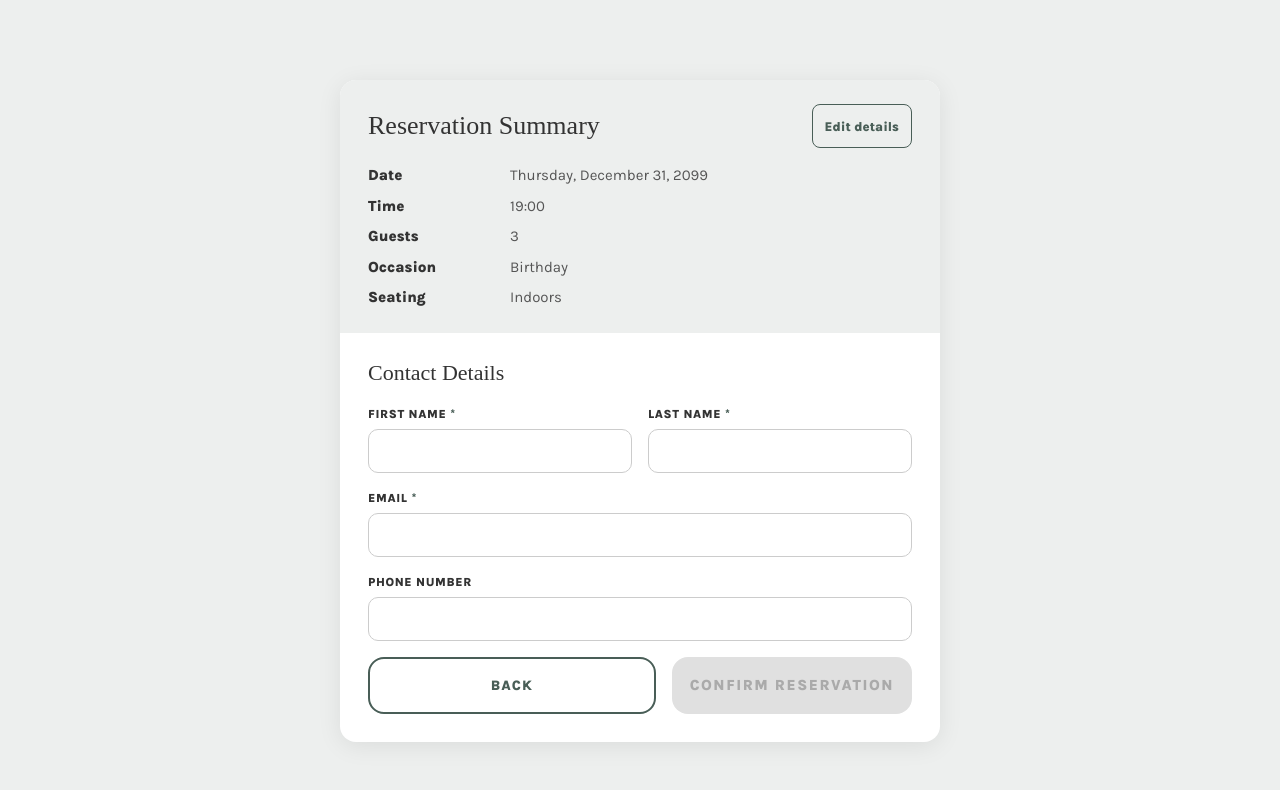
Test: BookingSummary › Confirm button enables after filling required contact fields
Type "Anna" into the field labelled "First Name *".
click(500, 451); type("Anna")  # box [368,429,632,473]
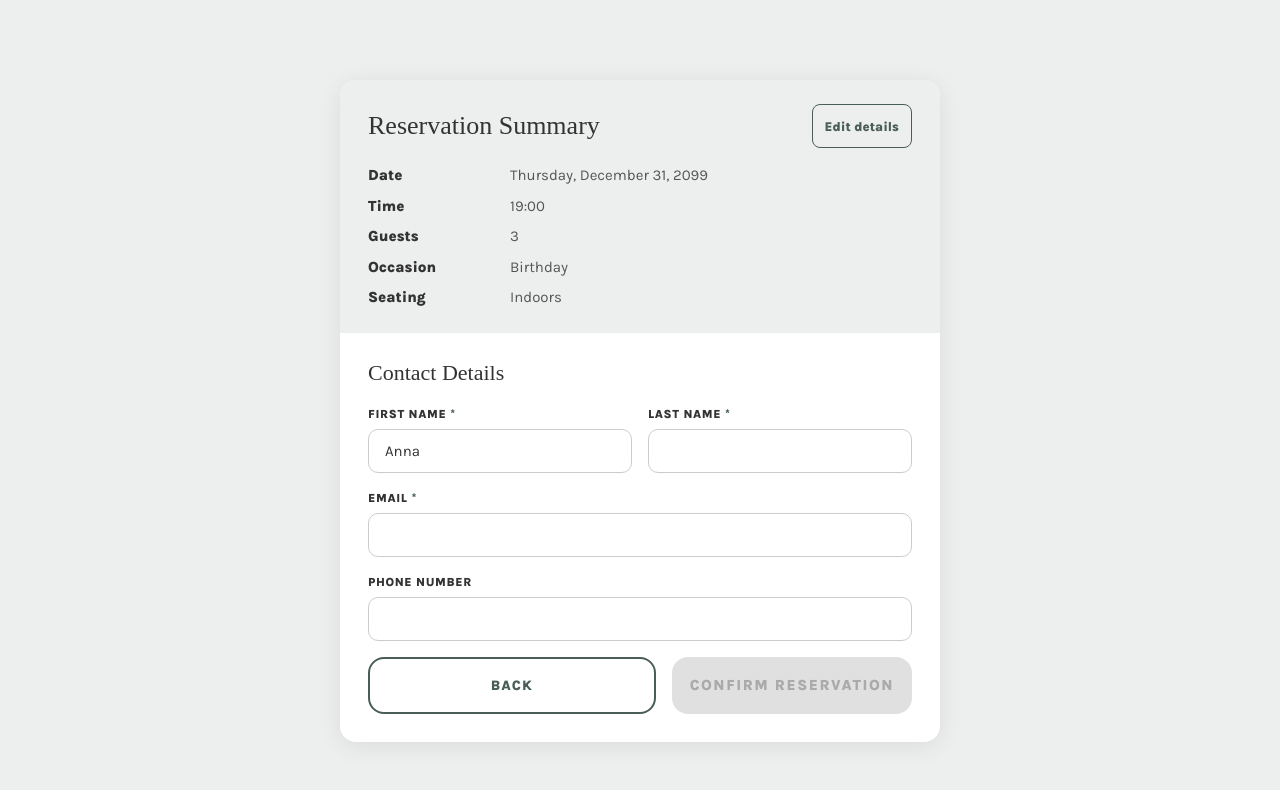
Type "Smith" into the field labelled "Last Name *".
click(780, 451); type("Smith")  # box [648,429,912,473]
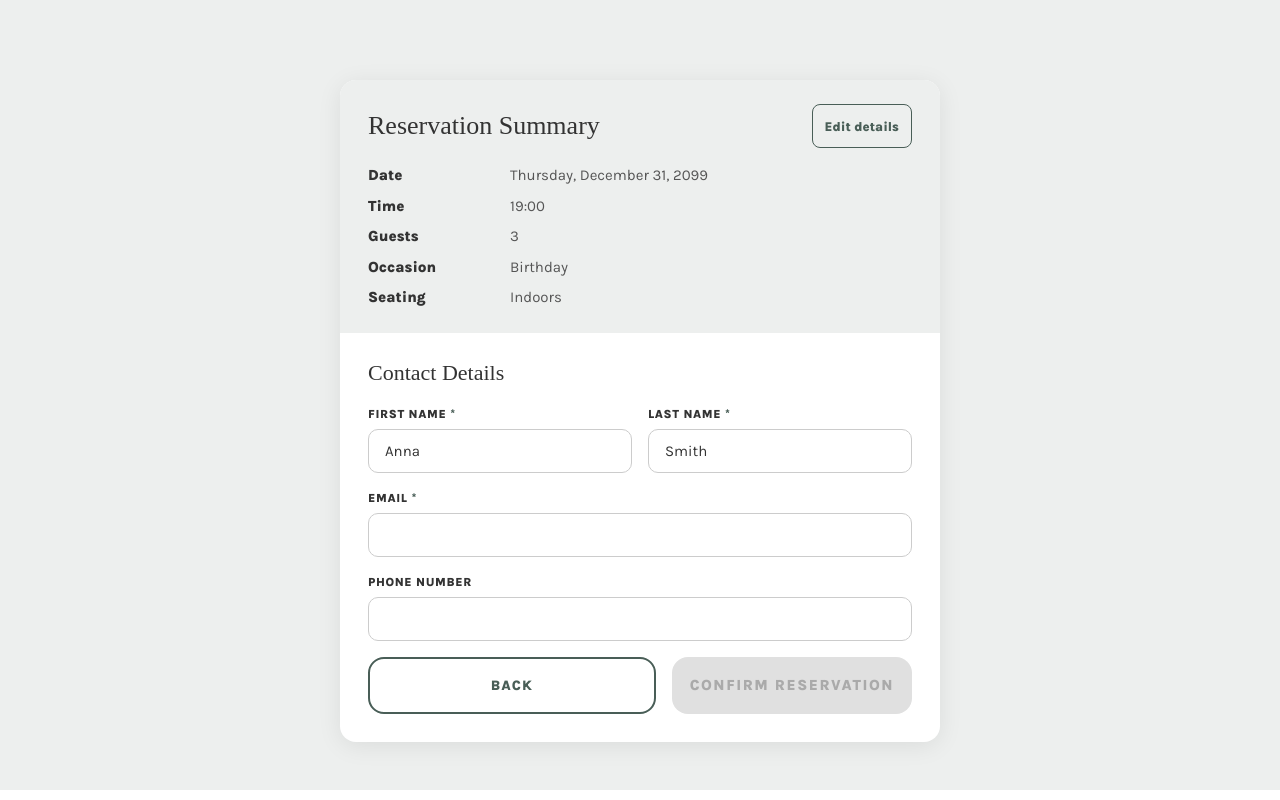
Type "anna@example.com" into the field labelled "Email *".
click(640, 535); type("anna@example.com")  # box [368,513,912,557]
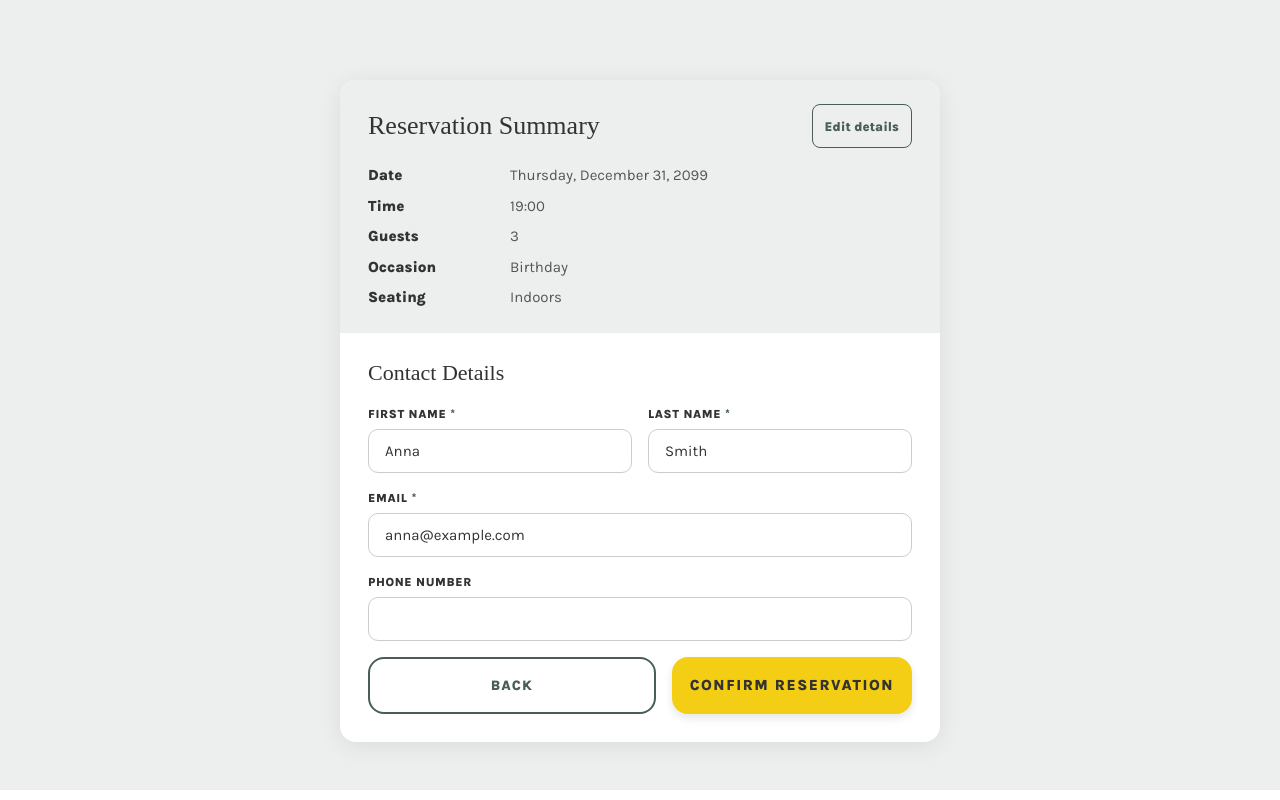
Check: the button "Confirm Reservation" is enabled, box [672,657,912,714]
